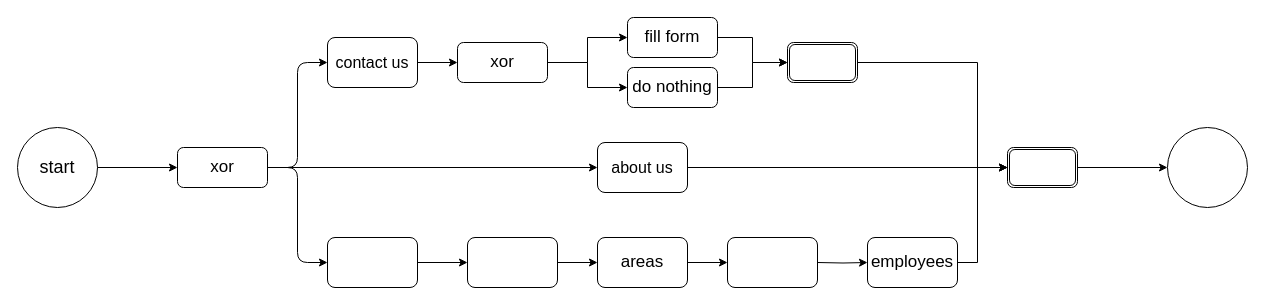
Some shapes in this 1265 by 305 pixel diagram are drawn without their labels. Each missing label, with the box of its shape:
end: (1166, 126, 1248, 208)
homepage: (466, 236, 558, 288)
services: (726, 236, 818, 288)
tour_guide: (326, 236, 418, 288)
